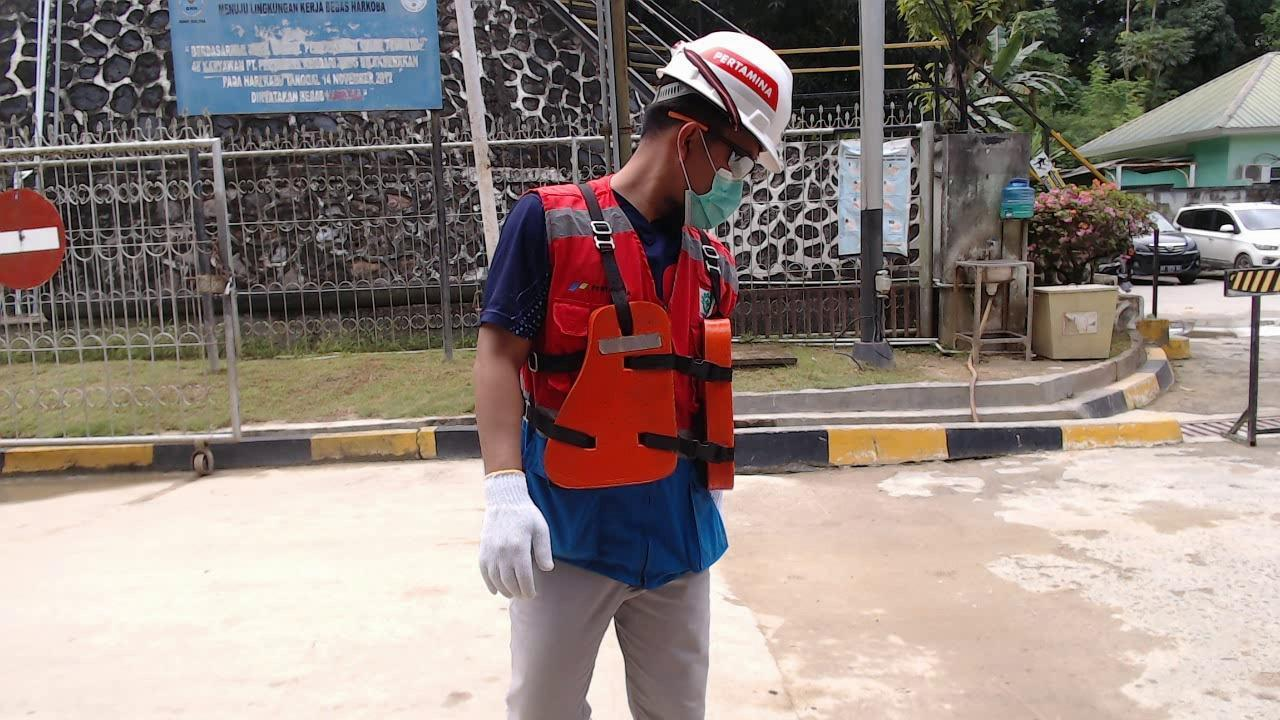vest: (544, 294, 739, 493)
